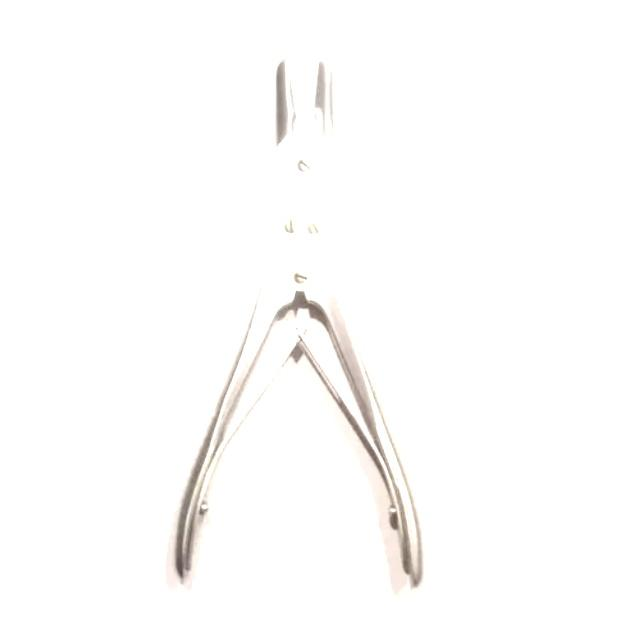gubia: (178, 59, 429, 596)
